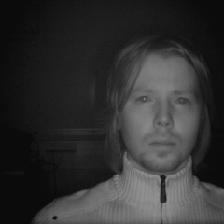normal: (109, 48, 214, 167)
